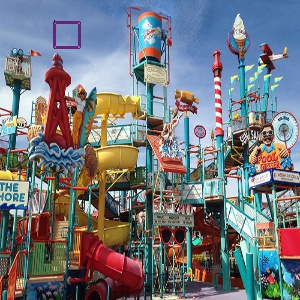square: (52, 19, 81, 49)
